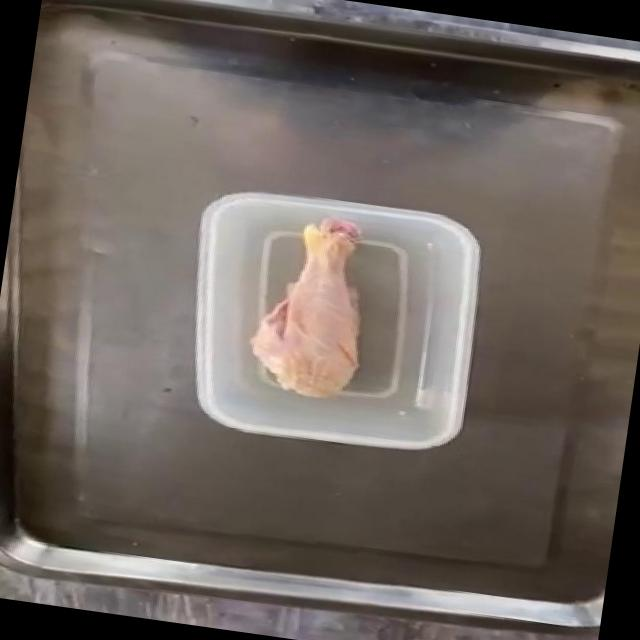chicken: (232, 210, 392, 407)
